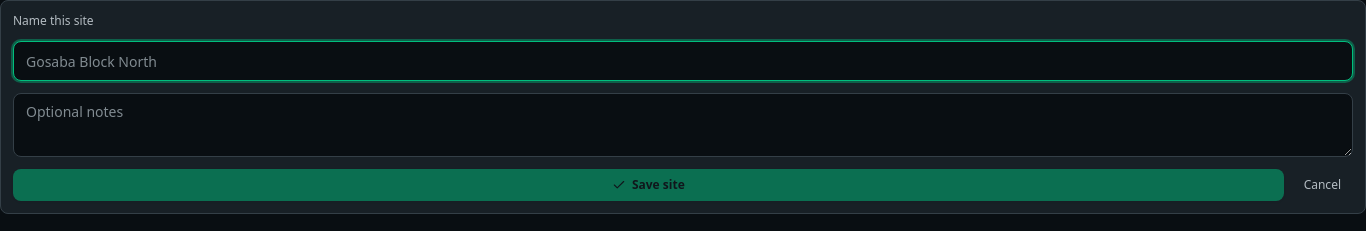
Test: AddSitePanel › keeps save disabled until the name is long enough
The image size is (1366, 231).
Expected: the button "Save site" is disabled, [13,169,1284,201]
Type "Gosaba Block" into the field named "Site name". click: [683, 61]
box: [13,41,1353,81]
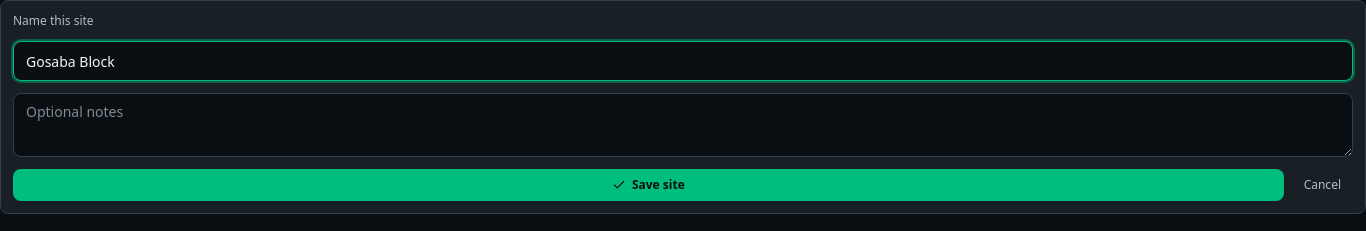
Expected: the button "Save site" is enabled, [13,169,1284,201]
